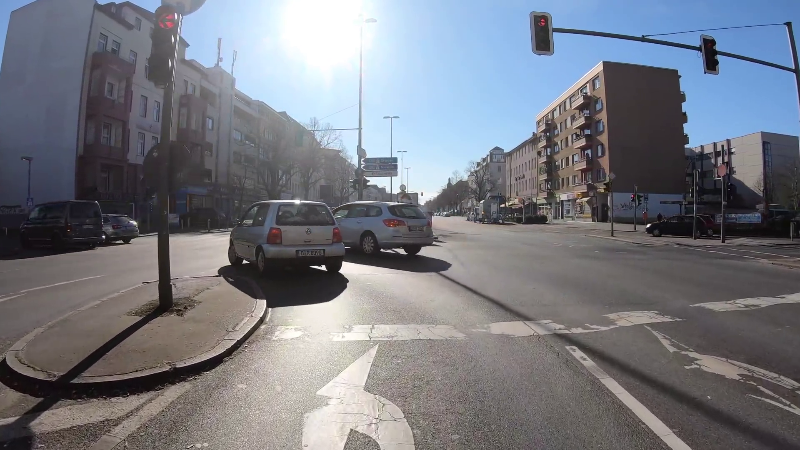Plate: (294, 248, 326, 258), (408, 224, 424, 233)
